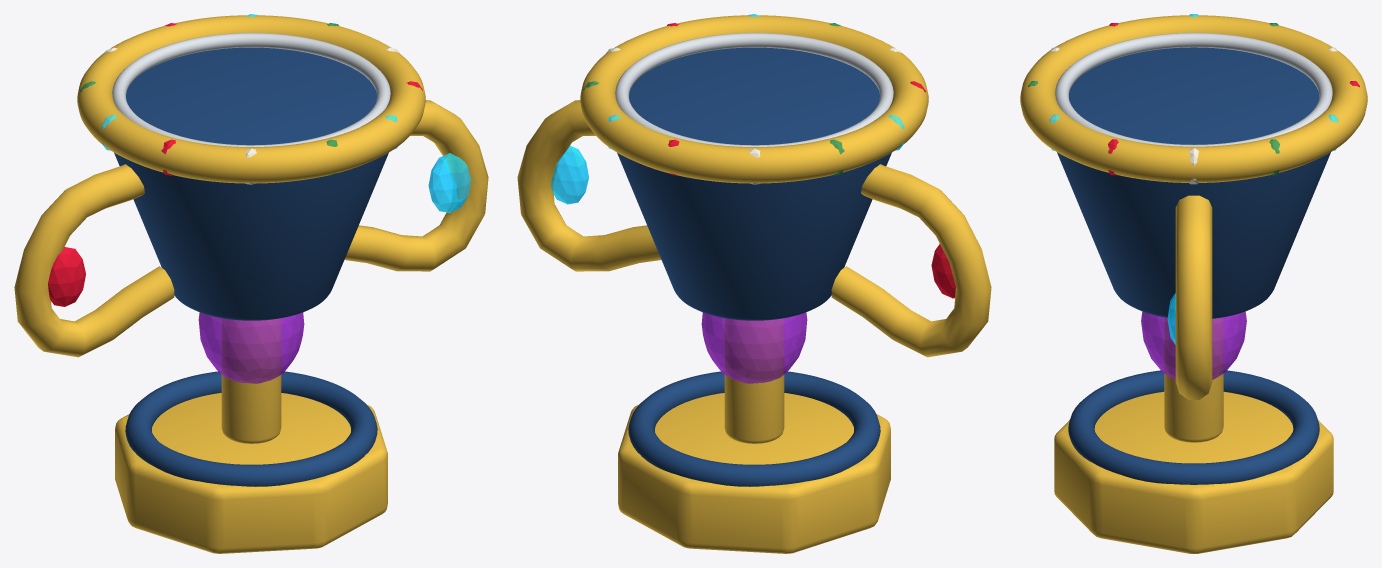
Rendered from chalice.glb.
3 renders of one model, left to right at view 1: azimuth 30°, elevation 25°; view 2: azimuth 150°, elevation 25°; view 3: azimuth 270°, elevation 25°, orthographic.
Visible parts, largest first — view 1: treasure-chalice-lapis-enamel-cup, treasure-chalice-octagonal-solid-gold-foot, treasure-chalice-substantial-solid-gold-rim, treasure-chalice-royal-scroll-handle, treasure-chalice-lapis-foot-inlay, treasure-chalice-royal-scroll-handle.001, treasure-chalice-jeweled-gold-stem, treasure-chalice-inner-silver-lip, treasure-chalice-stem-amethyst-node, treasure-chalice-handle-terminal-ruby.001, treasure-chalice-handle-terminal-ruby; view 2: treasure-chalice-lapis-enamel-cup, treasure-chalice-octagonal-solid-gold-foot, treasure-chalice-substantial-solid-gold-rim, treasure-chalice-royal-scroll-handle, treasure-chalice-lapis-foot-inlay, treasure-chalice-royal-scroll-handle.001, treasure-chalice-jeweled-gold-stem, treasure-chalice-inner-silver-lip, treasure-chalice-stem-amethyst-node, treasure-chalice-handle-terminal-ruby.001, treasure-chalice-handle-terminal-ruby; view 3: treasure-chalice-lapis-enamel-cup, treasure-chalice-octagonal-solid-gold-foot, treasure-chalice-substantial-solid-gold-rim, treasure-chalice-lapis-foot-inlay, treasure-chalice-royal-scroll-handle.001, treasure-chalice-inner-silver-lip, treasure-chalice-jeweled-gold-stem, treasure-chalice-stem-amethyst-node.
Part boxes in pixels (x1=…): treasure-chalice-lapis-enamel-cup: x1=114, y1=47, x2=388, y2=320; treasure-chalice-octagonal-solid-gold-foot: x1=115, y1=393, x2=387, y2=553; treasure-chalice-substantial-solid-gold-rim: x1=77, y1=15, x2=425, y2=183; treasure-chalice-royal-scroll-handle: x1=14, y1=164, x2=174, y2=357; treasure-chalice-lapis-foot-inlay: x1=125, y1=371, x2=377, y2=486; treasure-chalice-royal-scroll-handle.001: x1=344, y1=100, x2=488, y2=271; treasure-chalice-jeweled-gold-stem: x1=221, y1=318, x2=281, y2=443; treasure-chalice-inner-silver-lip: x1=112, y1=33, x2=390, y2=146; treasure-chalice-stem-amethyst-node: x1=198, y1=312, x2=304, y2=383; treasure-chalice-handle-terminal-ruby.001: x1=428, y1=153, x2=471, y2=212; treasure-chalice-handle-terminal-ruby: x1=48, y1=247, x2=85, y2=306; treasure-chalice-lapis-enamel-cup: x1=617, y1=47, x2=891, y2=320; treasure-chalice-octagonal-solid-gold-foot: x1=618, y1=393, x2=890, y2=553; treasure-chalice-substantial-solid-gold-rim: x1=580, y1=15, x2=928, y2=183; treasure-chalice-royal-scroll-handle: x1=831, y1=164, x2=991, y2=357; treasure-chalice-lapis-foot-inlay: x1=628, y1=371, x2=880, y2=486; treasure-chalice-royal-scroll-handle.001: x1=517, y1=100, x2=661, y2=271; treasure-chalice-jeweled-gold-stem: x1=724, y1=318, x2=784, y2=443; treasure-chalice-inner-silver-lip: x1=615, y1=33, x2=893, y2=146; treasure-chalice-stem-amethyst-node: x1=701, y1=312, x2=807, y2=383; treasure-chalice-handle-terminal-ruby.001: x1=551, y1=145, x2=588, y2=204; treasure-chalice-handle-terminal-ruby: x1=931, y1=244, x2=955, y2=298; treasure-chalice-lapis-enamel-cup: x1=1057, y1=47, x2=1330, y2=318; treasure-chalice-octagonal-solid-gold-foot: x1=1054, y1=391, x2=1333, y2=553; treasure-chalice-substantial-solid-gold-rim: x1=1020, y1=15, x2=1367, y2=182; treasure-chalice-lapis-foot-inlay: x1=1068, y1=370, x2=1319, y2=484; treasure-chalice-royal-scroll-handle.001: x1=1175, y1=195, x2=1212, y2=399; treasure-chalice-inner-silver-lip: x1=1055, y1=33, x2=1332, y2=146; treasure-chalice-jeweled-gold-stem: x1=1164, y1=318, x2=1223, y2=442; treasure-chalice-stem-amethyst-node: x1=1141, y1=311, x2=1246, y2=379.
Bounding box in the file's own units: 1.63 × 1.39 × 1.05.
